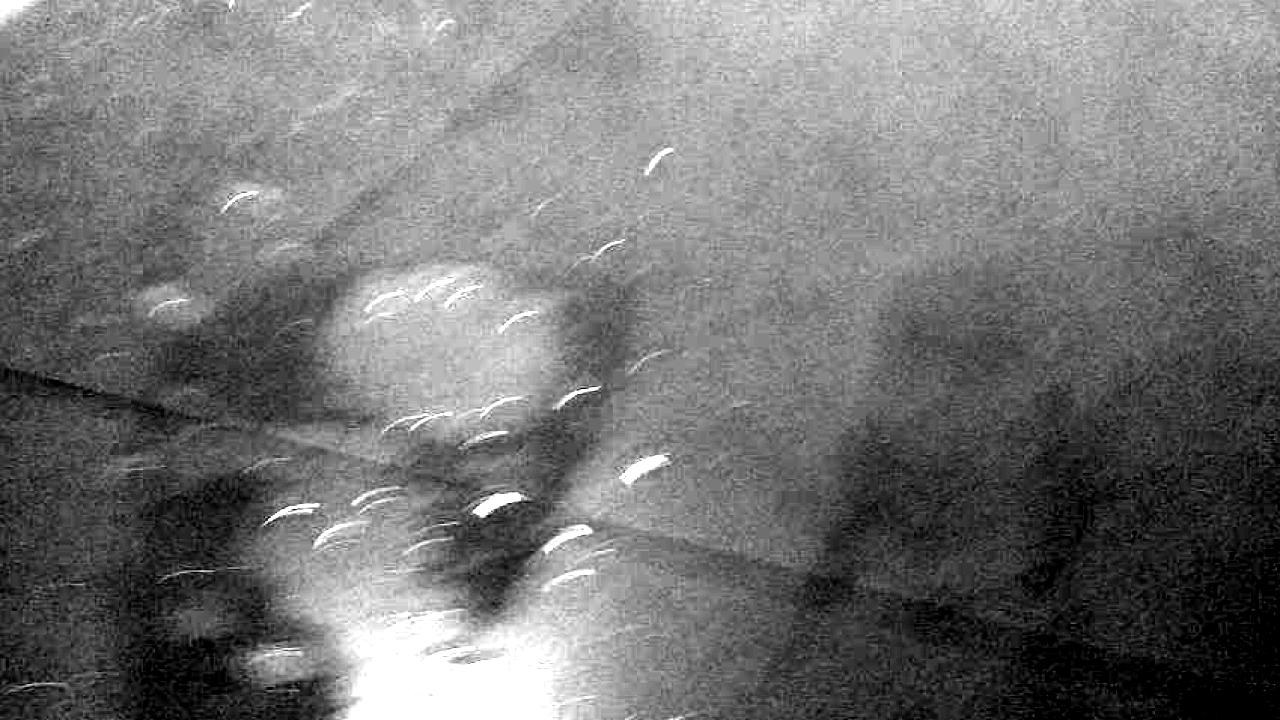drinks Stains: (296, 237, 610, 492)
